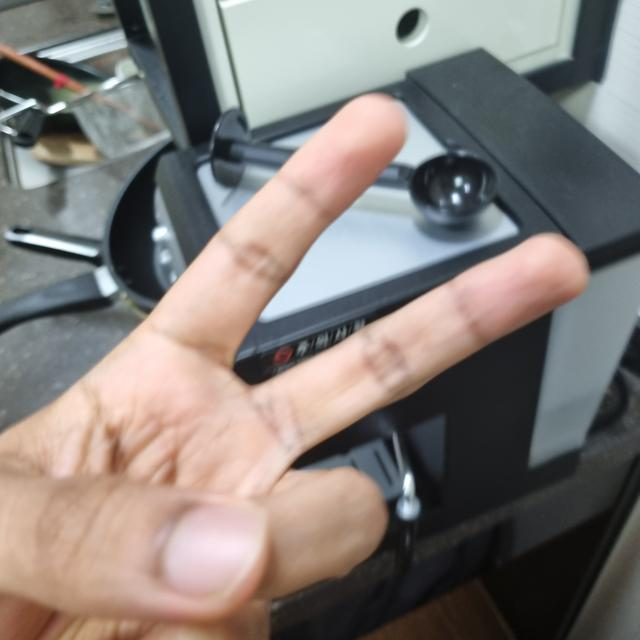Scissors: (0, 99, 587, 640)
